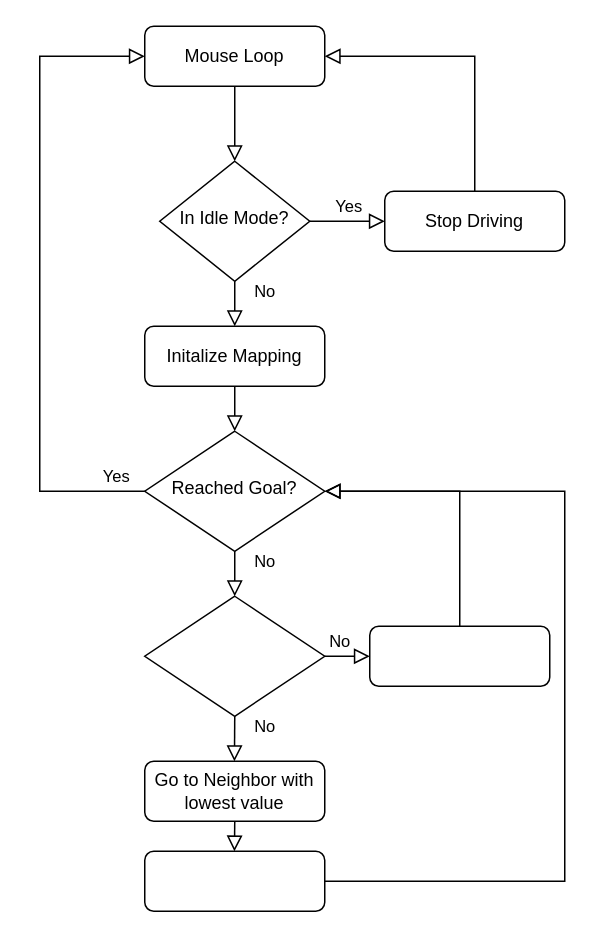
The diagram is 606 pixels wide and 938 high, and some of its shapes have lost their labels. The centre of each missing label's shape, as x and y in pixels:
Floodfill: (x=459, y=655)
Neighbor with lower value?: (x=234, y=655)
update Map: (x=234, y=880)
